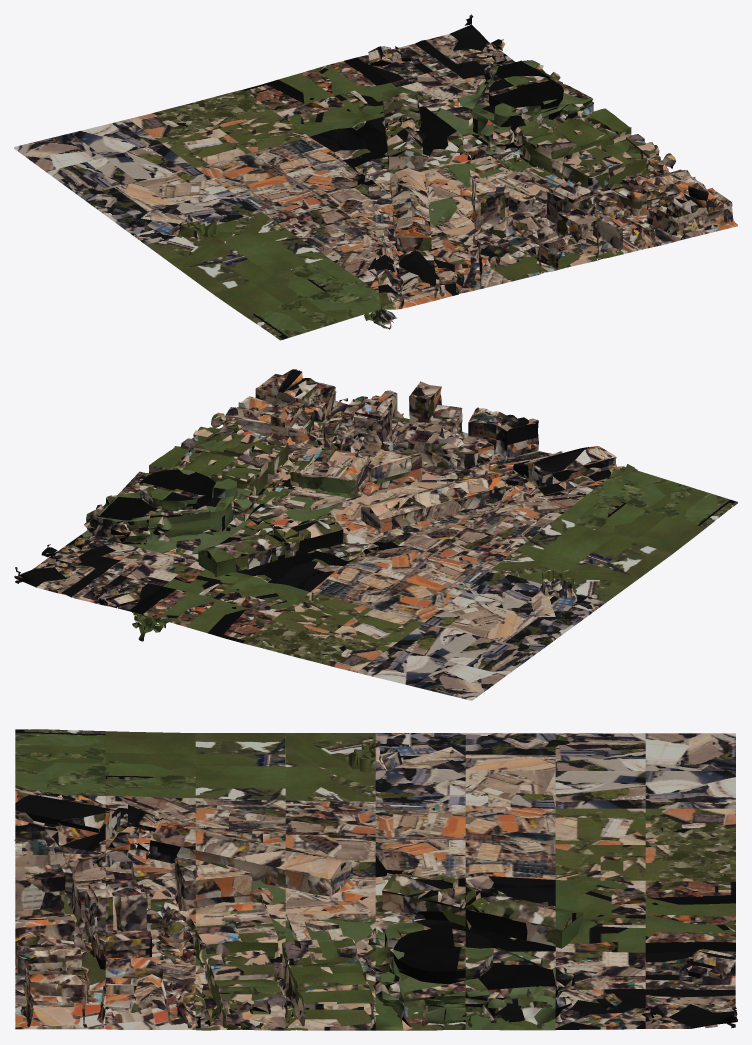
Rendered from recife_antigo_sul.glb.
3 renders of one model, top to bottom at view 1: azimuth 30°, elevation 25°; view 2: azimuth 150°, elevation 25°; view 3: azimuth 270°, elevation 25°, orthographic. The views are drawn at different scales.
Visible parts, largest first — view 1: recife_antigo_sul; view 2: recife_antigo_sul; view 3: recife_antigo_sul.
Boxes of the visible parts, <box> form: recife_antigo_sul: <box>14,14,737,340</box>; recife_antigo_sul: <box>14,369,737,700</box>; recife_antigo_sul: <box>14,729,737,1030</box>.
Size of the model in its own units: 306 by 47.11 by 309.
Materials: 1 (1 with a texture image).
